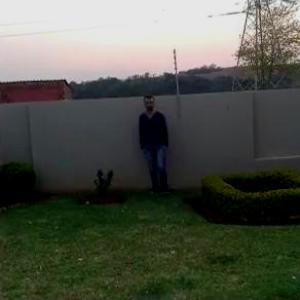follow: (138, 92, 170, 200)
